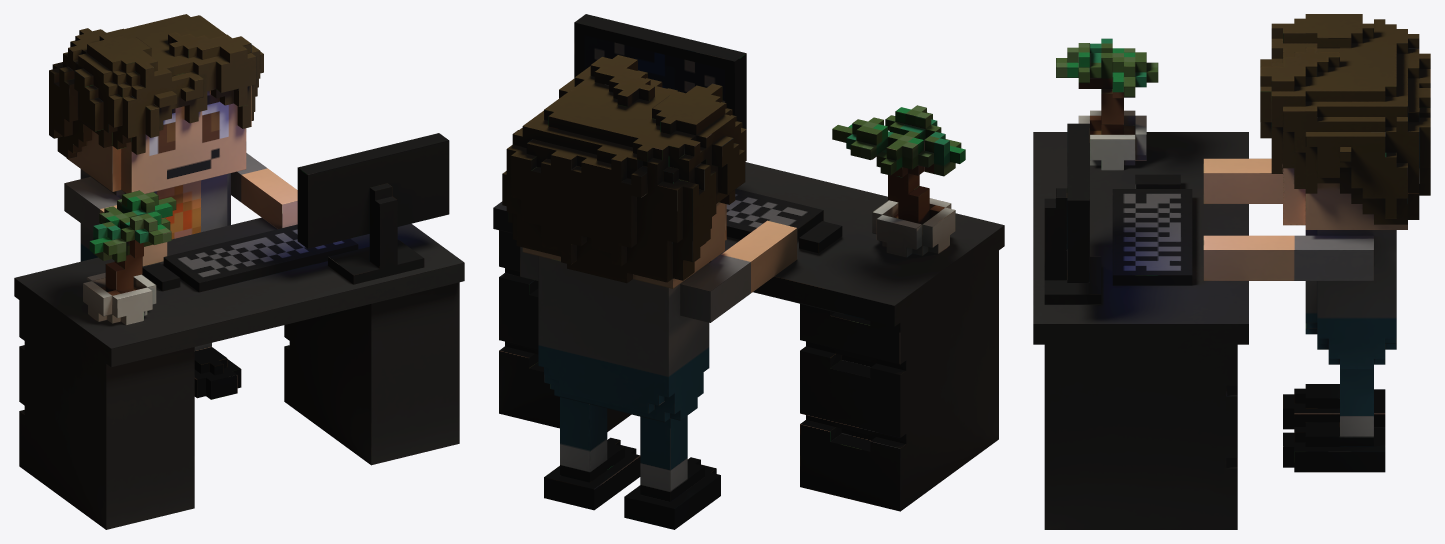
The model's file is lenny.glb.
3 views of the same model, side by side, from view 1: azimuth 30°, elevation 25°; view 2: azimuth 150°, elevation 25°; view 3: azimuth 270°, elevation 25° (orthographic). The views are drawn at different scales.
Visible parts, largest first — view 1: lenny; view 2: lenny; view 3: lenny.
Boxes of the visible parts, bbox=[...] form: lenny: bbox=[14, 14, 464, 529]; lenny: bbox=[493, 14, 1004, 529]; lenny: bbox=[1033, 14, 1430, 529].
Bounding box in the file's own units: 4 × 3.8 × 3.5.
1 material, 1 textured.
